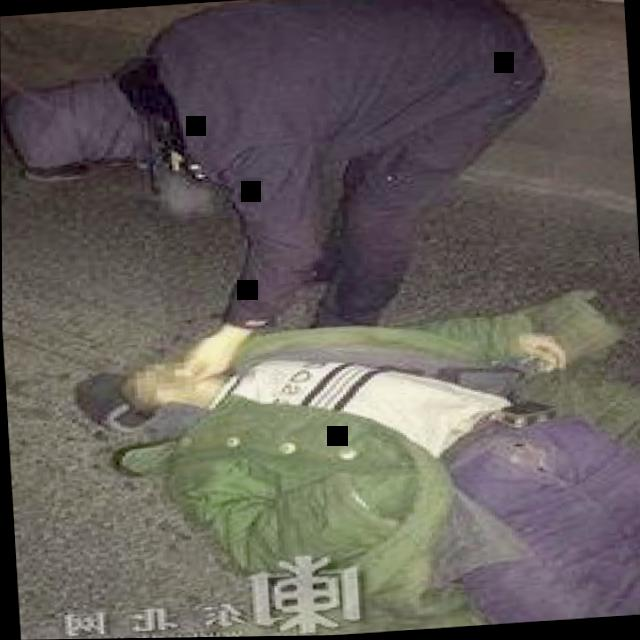Fall-Detected: (78, 279, 640, 639)
